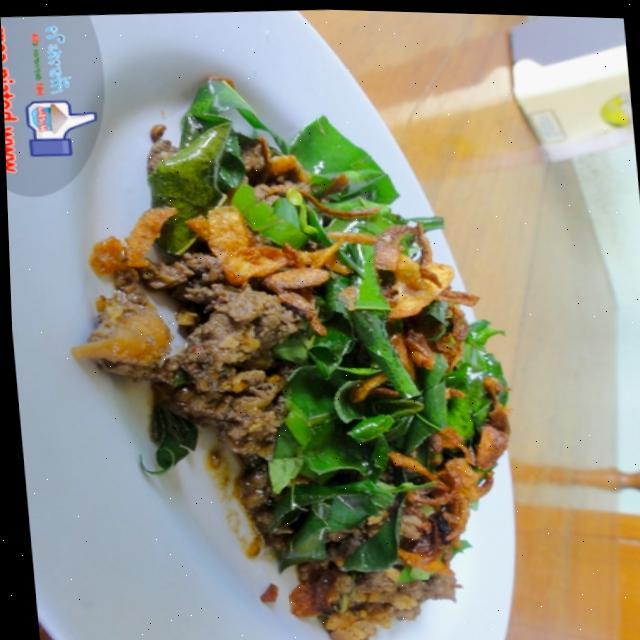鸡肉料理 含炸鸡: (43, 38, 599, 640)
